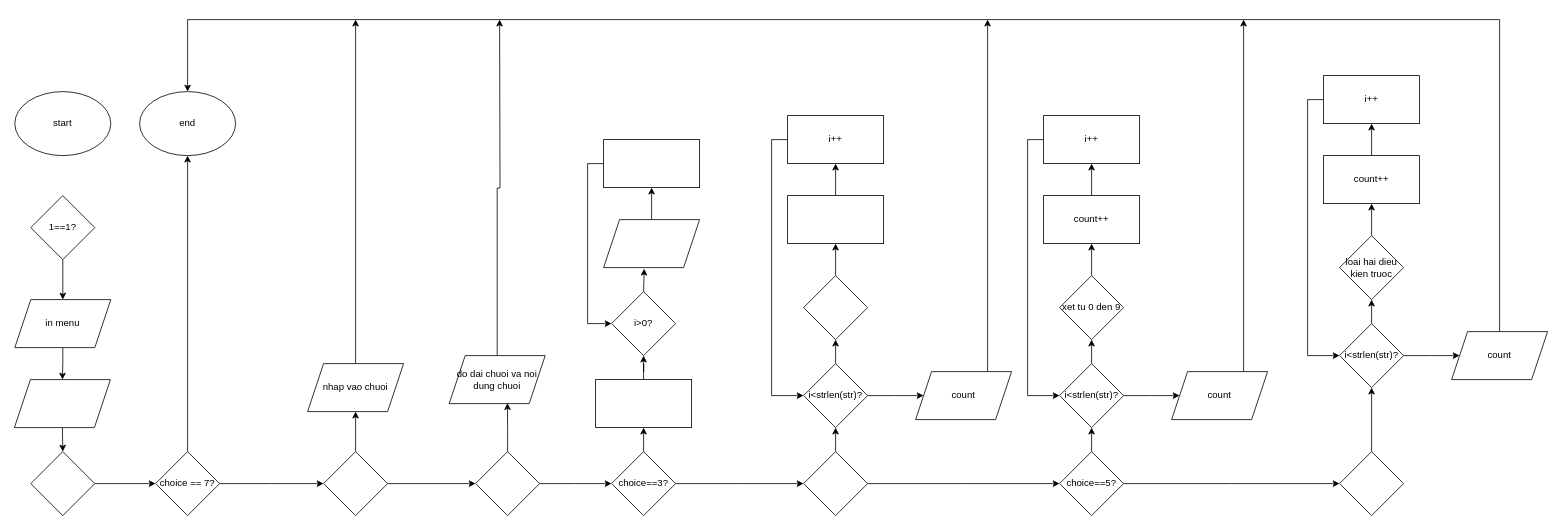
Image size: 1562x530. Some labels were removed from this diagram. Each missing label, with the centre of its shape:
choice: the point at 62,403
choice==1?: the point at 355,483
choice==2?: the point at 507,483
choice==4?: the point at 835,483
choice==6?: the point at 1371,483
choice?: the point at 62,483
cuont++: the point at 835,219
i = strlen(str): the point at 643,403
i--: the point at 651,163
in ra: the point at 651,243
xet trong khoang chu hoa va chu thuong?: the point at 835,307
